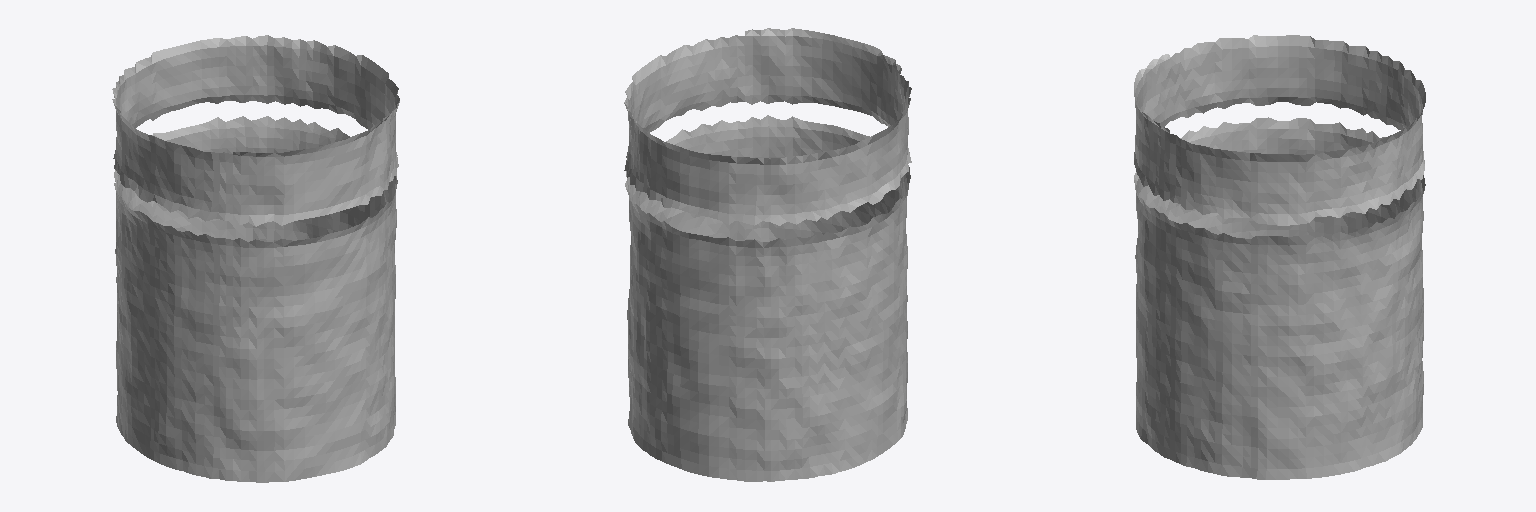
3 views of the same model, side by side, from view 1: azimuth 30°, elevation 25°; view 2: azimuth 150°, elevation 25°; view 3: azimuth 270°, elevation 25° (orthographic).
Visible parts, largest first — view 1: ET_cylindricite; view 2: ET_cylindricite; view 3: ET_cylindricite.
Part boxes in pixels (bbox=[...]): ET_cylindricite: bbox=[112, 35, 399, 482]; ET_cylindricite: bbox=[624, 28, 911, 481]; ET_cylindricite: bbox=[1134, 35, 1425, 479].
Size of the model in its own units: 1.11 by 1.43 by 1.14.